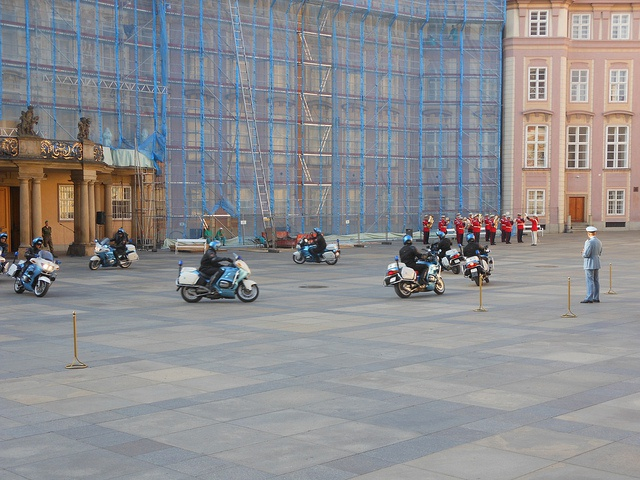non-vehicle: (176, 252, 259, 303), (382, 247, 445, 298), (7, 249, 59, 296), (87, 237, 139, 270), (292, 234, 340, 264), (462, 244, 494, 286), (425, 240, 464, 274), (0, 248, 8, 276)
